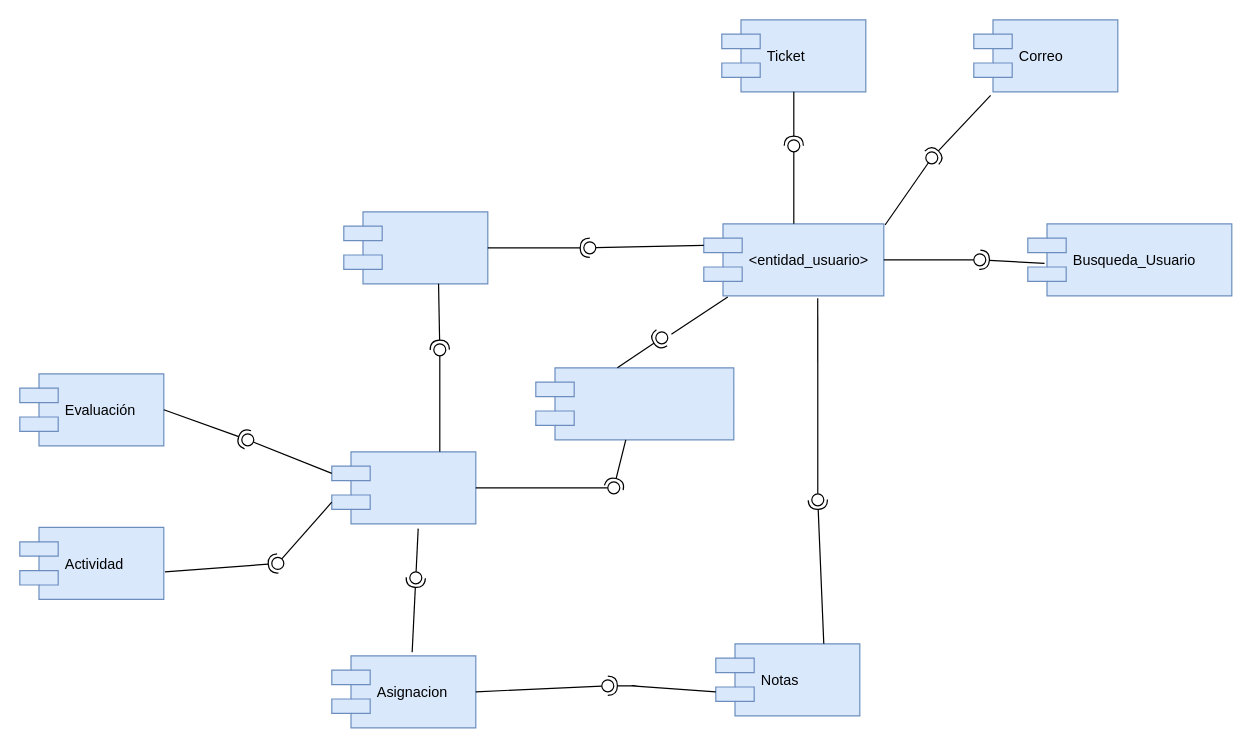
Some shapes in this 1252 by 748 pixel diagram are drawn without their labels. The shapes that lost their labels are listed below. From the top down, each one's box as (x1, y1, x2, y2) in pixels, then its label:
(343, 211, 488, 284): Profile
(535, 367, 734, 440): Asignacion_semestre
(331, 451, 476, 524): Cursos
